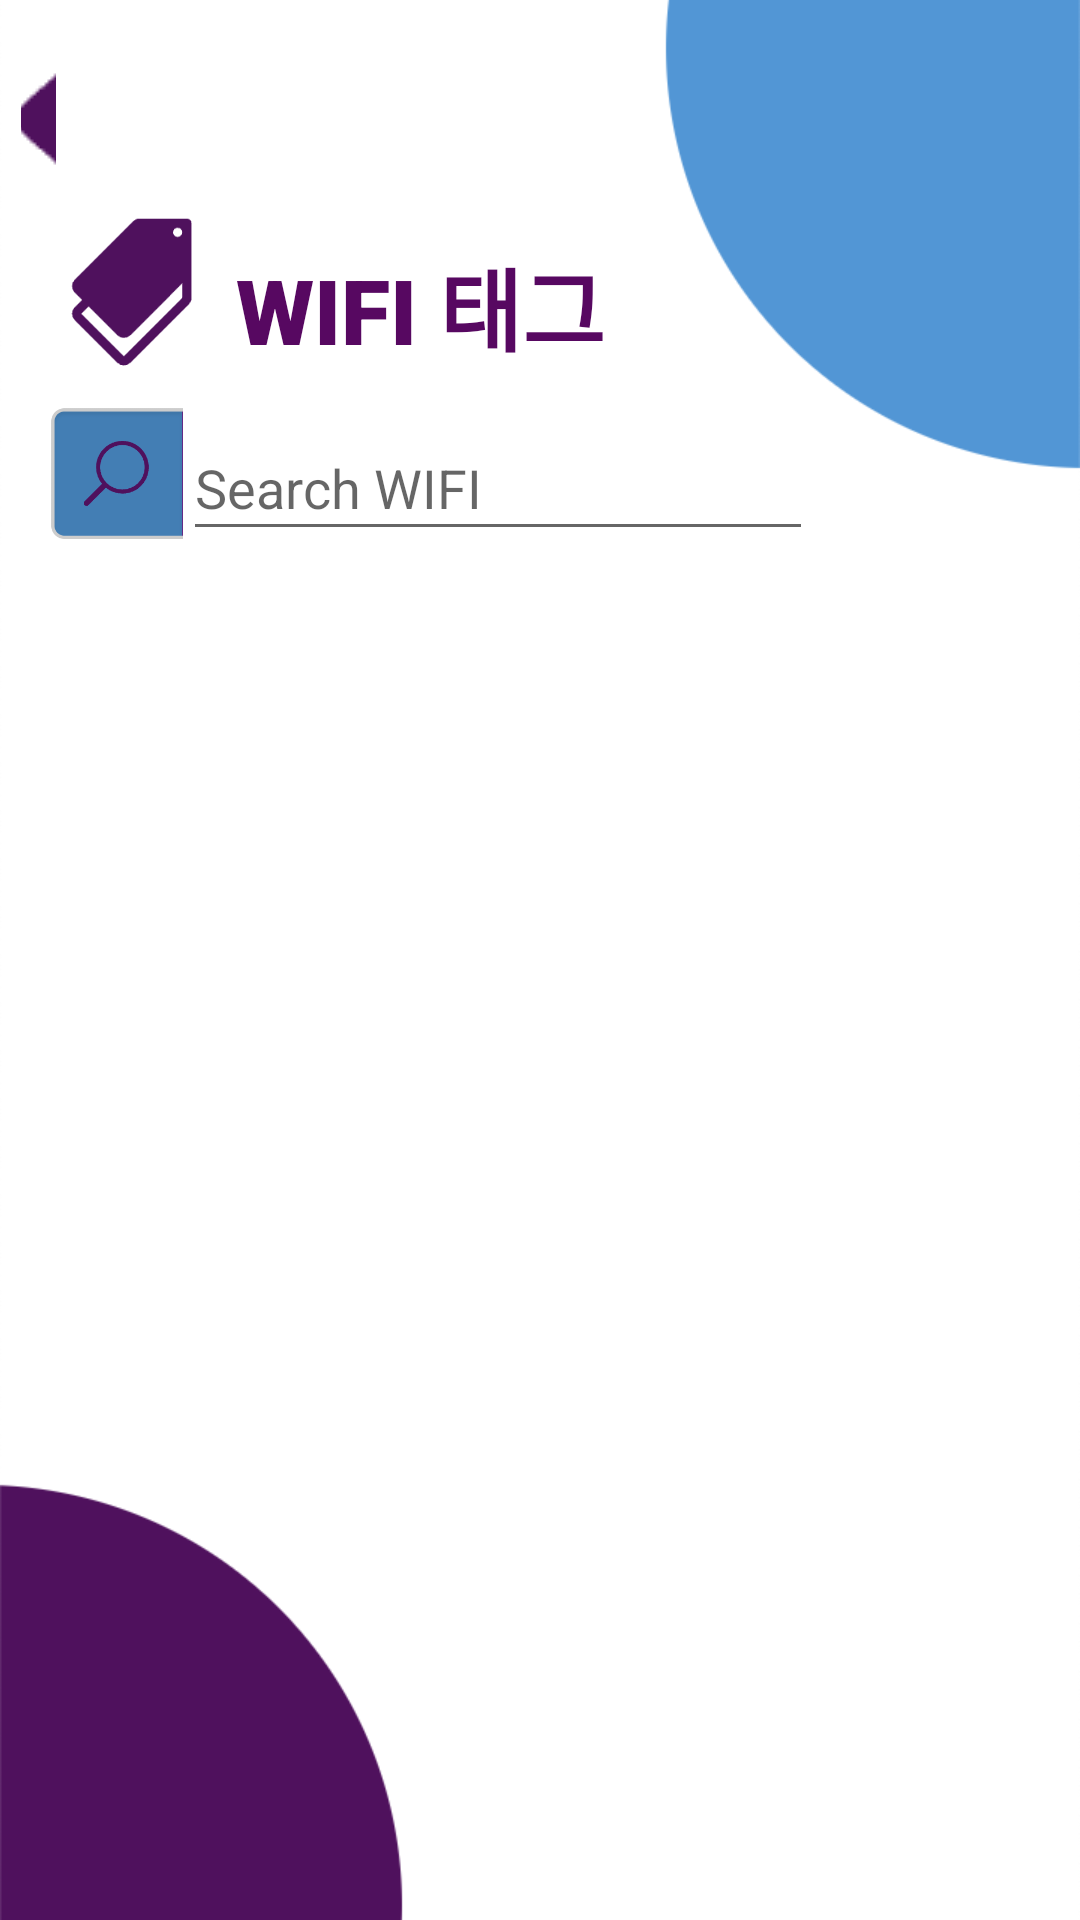

Icon bounding boxes for this 1080×1920 phone screenshot, format (x1, y1, x2, y2):
previous: (21, 73, 56, 165)
wifi tag: (71, 218, 192, 366)
